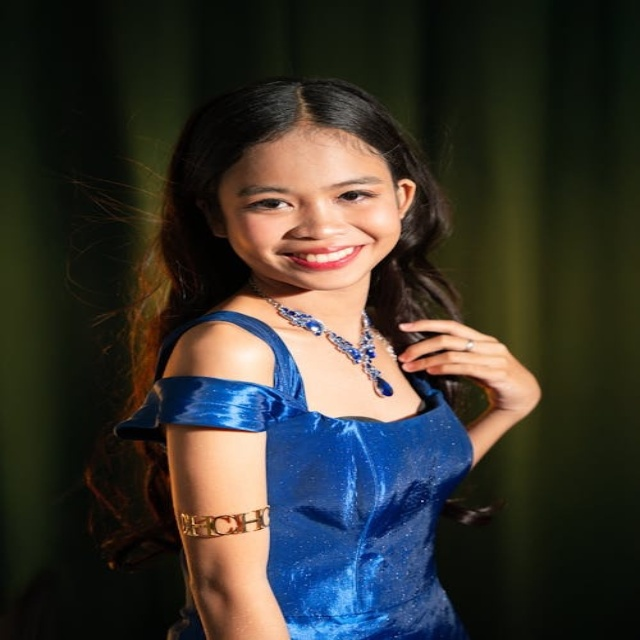Sin_gafas: (228, 170, 389, 218)
Sin_guantes: (397, 314, 545, 409)
Sin_mascara: (257, 235, 375, 284)
